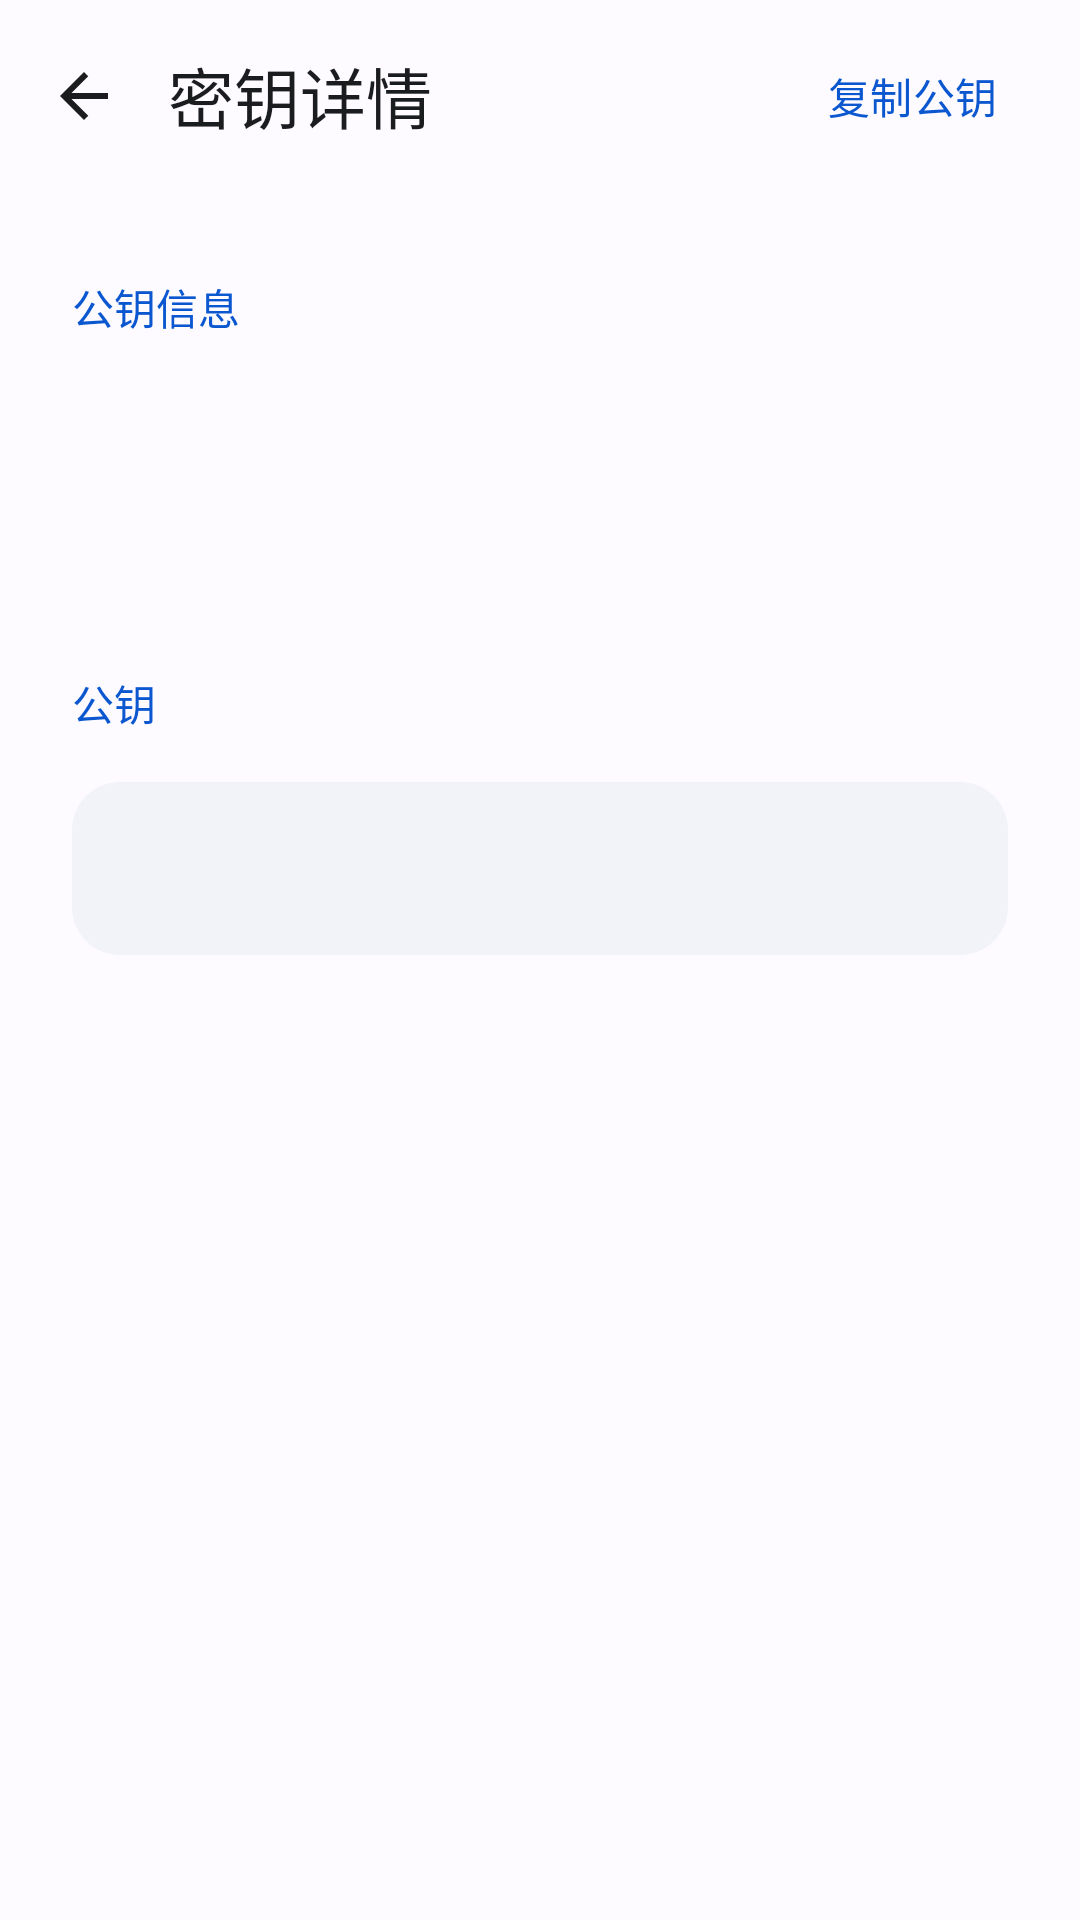

Where to tap for icons on this 1080×1920 app screen, as (x=x, y=y):
返回: (x=84, y=96)
